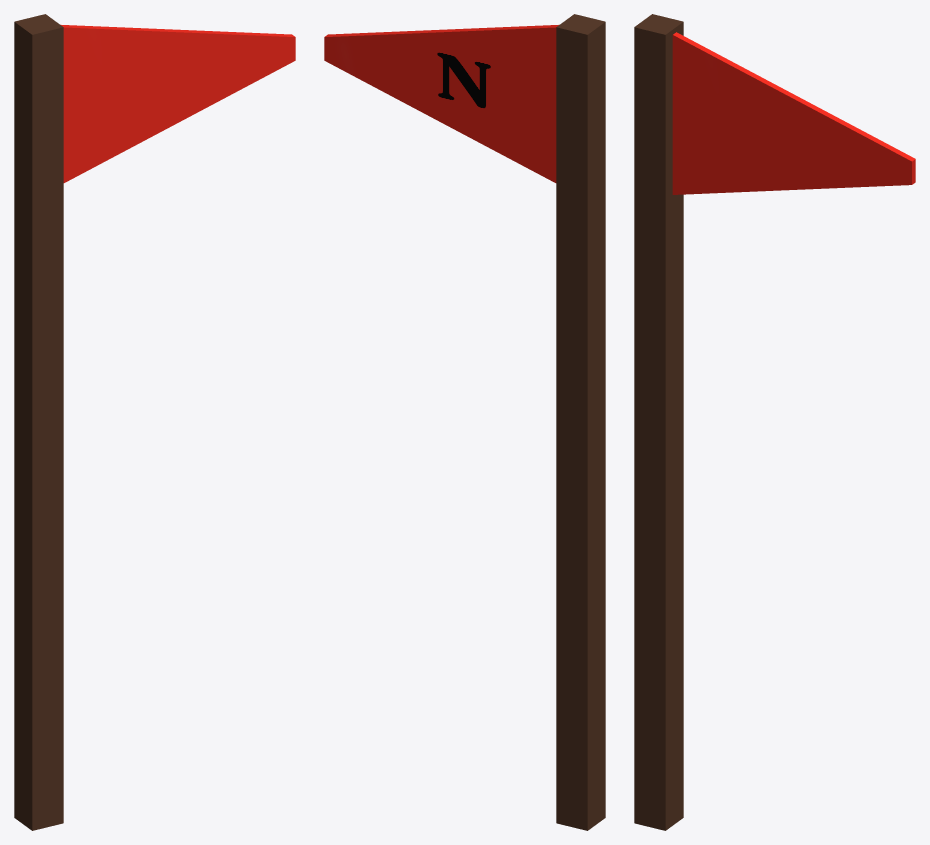
Rendered from landmark01__mesh_LOD.fbx.
The picture shows the model from 3 angles, left to right: view 1: azimuth 30°, elevation 25°; view 2: azimuth 150°, elevation 25°; view 3: azimuth 330°, elevation 25°; orthographic projection.
Visible parts, largest first — view 1: landmark01__mesh_LOD0; view 2: landmark01__mesh_LOD0; view 3: landmark01__mesh_LOD0.
Boxes of the visible parts, left/top/right/bottom form: landmark01__mesh_LOD0: left=14, top=14, right=295, bottom=830; landmark01__mesh_LOD0: left=324, top=14, right=605, bottom=830; landmark01__mesh_LOD0: left=634, top=14, right=915, bottom=830.
Size of what is drawn, in the model's own units: 1726 by 4851 by 200.
2 materials, 2 textured.
